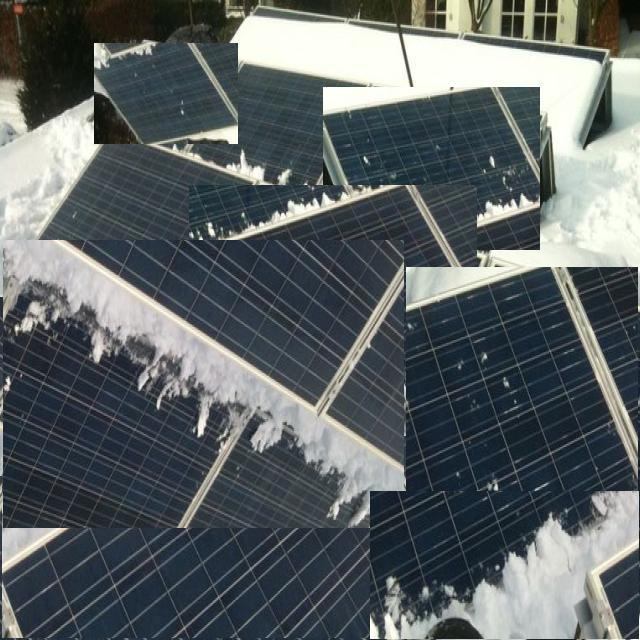Snow: (3, 240, 404, 528), (370, 492, 640, 640)
